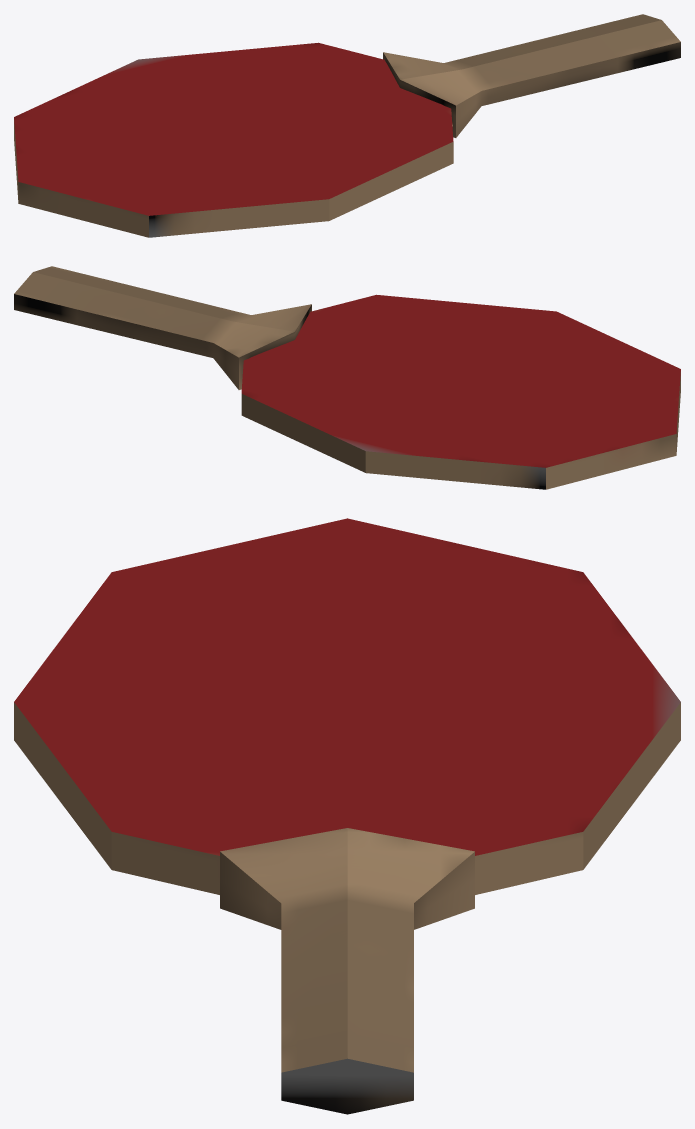
The model's file is pingpong.fbx.
3 renders of one model, top to bottom at view 1: azimuth 30°, elevation 25°; view 2: azimuth 150°, elevation 25°; view 3: azimuth 270°, elevation 25°, orthographic. The views are drawn at different scales.
Visible parts, largest first — view 1: pCylinder46; view 2: pCylinder46; view 3: pCylinder46.
Boxes of the visible parts, bbox=[...] form: pCylinder46: bbox=[14, 14, 680, 237]; pCylinder46: bbox=[14, 266, 680, 489]; pCylinder46: bbox=[14, 518, 680, 1114].
Bounding box in the file's own units: 226 × 13.62 × 116.
